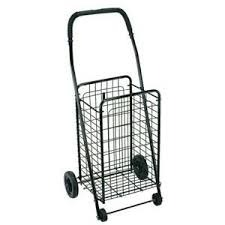with_basket: (59, 5, 162, 212)
